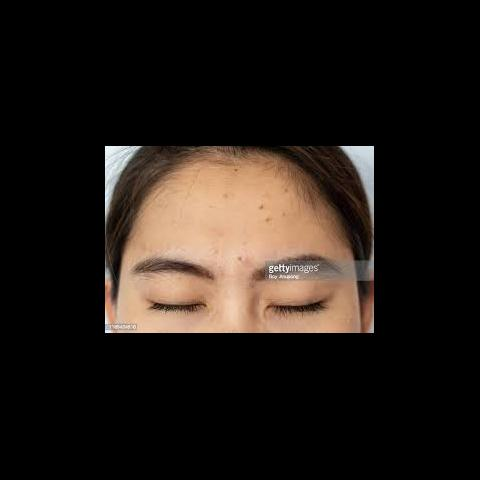closed: (124, 242, 358, 325)
